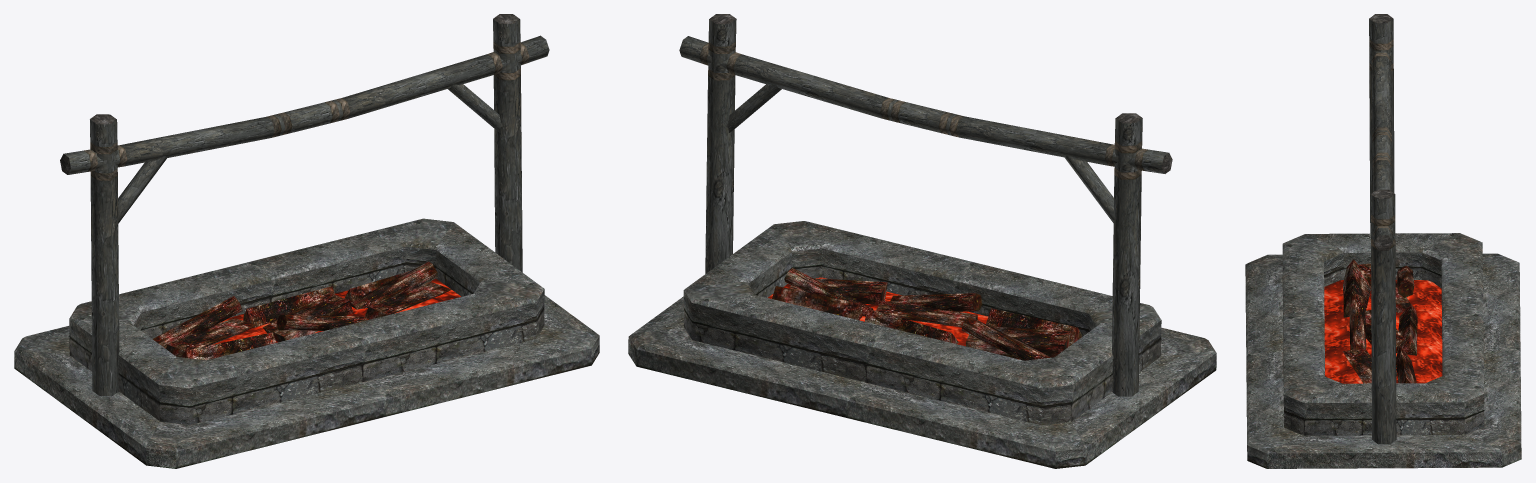
Rendered from d_sg_shouyou_huolu01_jz.FBX.
3 renders of one model, left to right at view 1: azimuth 30°, elevation 25°; view 2: azimuth 150°, elevation 25°; view 3: azimuth 270°, elevation 25°, orthographic. The views are drawn at different scales.
Visible parts, largest first — view 1: d_sg_shouyou_huolu01_jz; view 2: d_sg_shouyou_huolu01_jz; view 3: d_sg_shouyou_huolu01_jz.
Part boxes in pixels (bbox=[...]): d_sg_shouyou_huolu01_jz: bbox=[14, 14, 599, 468]; d_sg_shouyou_huolu01_jz: bbox=[628, 14, 1216, 468]; d_sg_shouyou_huolu01_jz: bbox=[1245, 14, 1521, 468].
Bounding box in the file's own units: 6.53 × 3.83 × 3.61.
